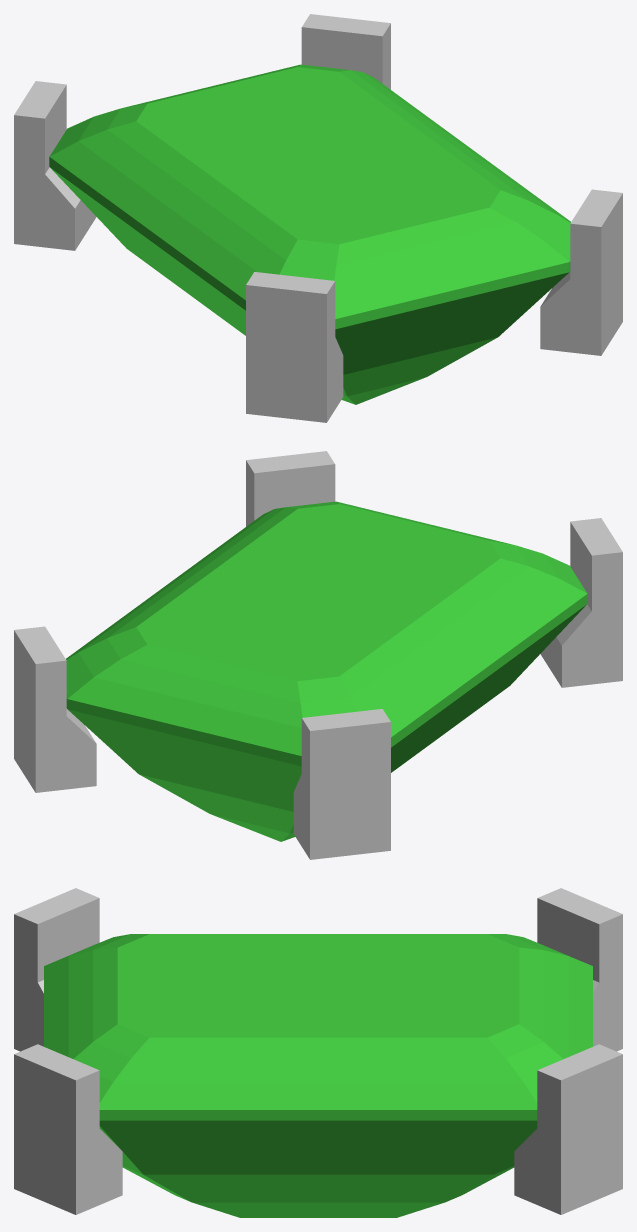
Rendered from emerald_prongs.fbx.
3 views of the same model, one above another, from view 1: azimuth 30°, elevation 25°; view 2: azimuth 150°, elevation 25°; view 3: azimuth 270°, elevation 25° (orthographic). The views are drawn at different scales.
Parts seen in each view (by area): view 1: Emerald, Emerald Prongs; view 2: Emerald, Emerald Prongs; view 3: Emerald, Emerald Prongs.
Boxes of the visible parts, left/top/right/bottom form: Emerald: left=49, top=64, right=570, bottom=404; Emerald Prongs: left=14, top=14, right=622, bottom=422; Emerald: left=66, top=501, right=587, bottom=841; Emerald Prongs: left=14, top=451, right=622, bottom=859; Emerald: left=44, top=934, right=592, bottom=1217; Emerald Prongs: left=14, top=888, right=622, bottom=1214.
Size of the model in its own units: 249 by 141 by 333.
